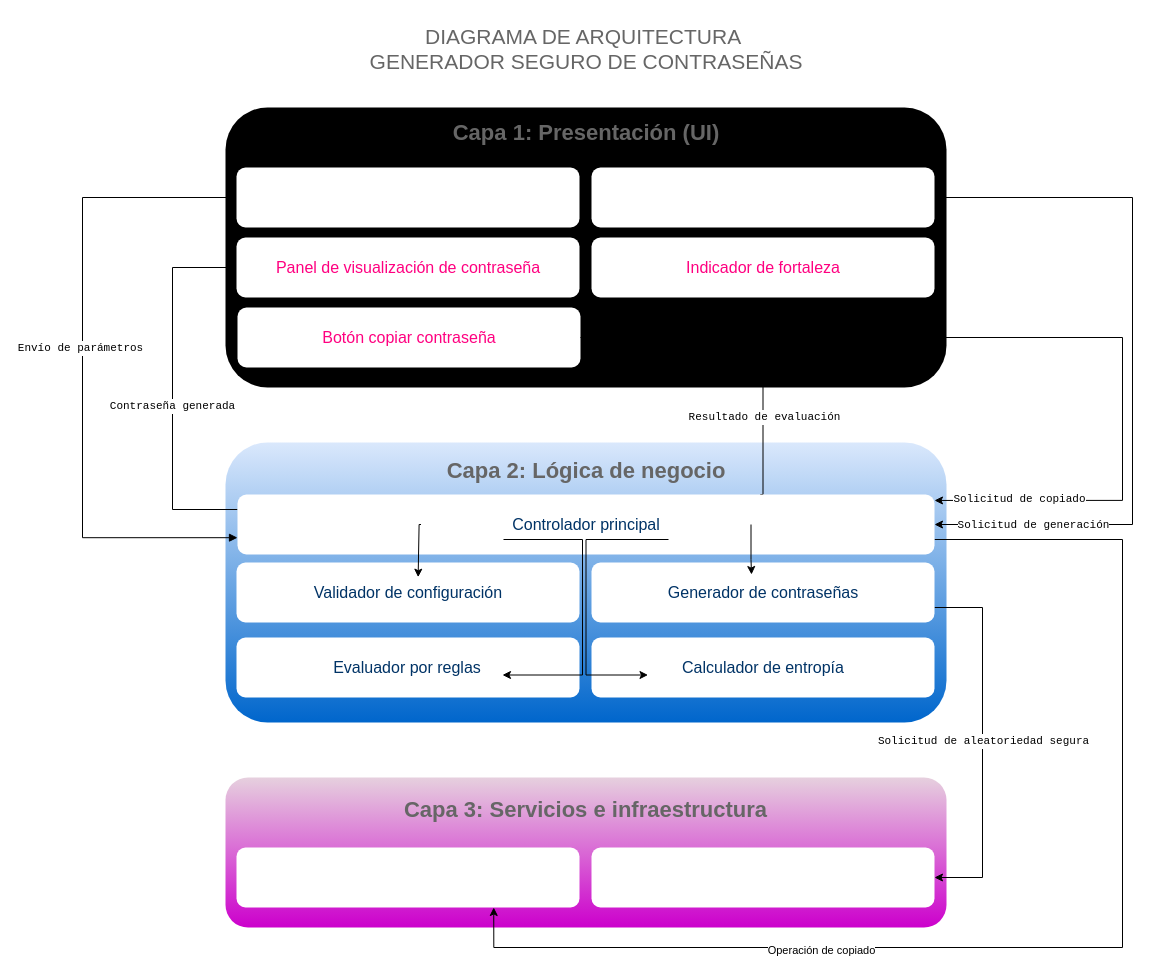
The diagram is 1158 pixels wide and 973 high, and some of its shapes have lost their labels. Here are the shapes that lost their labels. From the top down, the centre of each, then its label:
At pixel 407 197: "Formulario de configuración".
At pixel 762 197: "Botón generar contraseña".
At pixel 407 877: "Adaptador del portapapeles del sistema operativo".
At pixel 762 877: "Generador criptográfico seguro (CSPRNG)".
